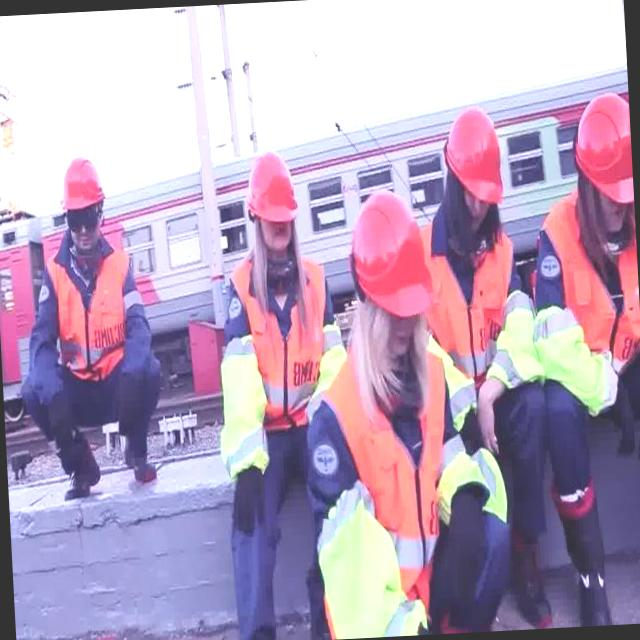helmet: (349, 190, 432, 316), (570, 88, 634, 206), (441, 109, 504, 208), (244, 152, 299, 222), (60, 158, 106, 212)
vest: (315, 338, 458, 614), (525, 188, 640, 401), (228, 249, 336, 439), (423, 220, 522, 382), (43, 242, 135, 381)
